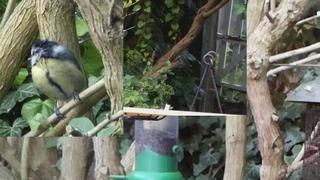blue tit: (27, 40, 86, 120)
